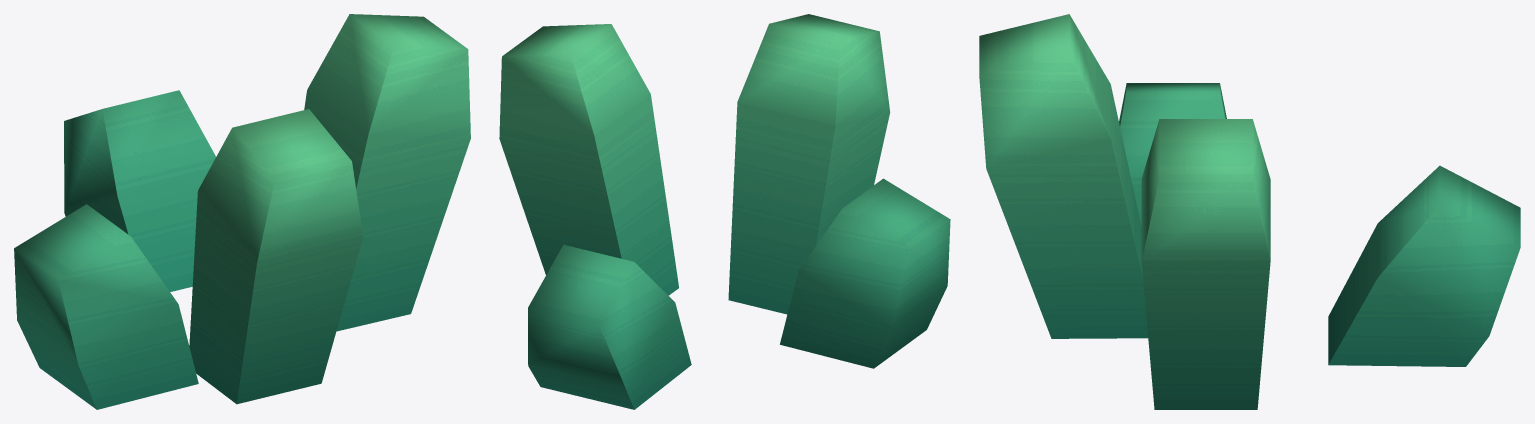
The model's file is grass.glb.
3 renders of one model, left to right at view 1: azimuth 30°, elevation 25°; view 2: azimuth 150°, elevation 25°; view 3: azimuth 270°, elevation 25°, orthographic. The views are drawn at different scales.
Parts seen in each view (by area): view 1: grass; view 2: grass; view 3: grass.
Boxes of the visible parts, x1=… form: grass: x1=14, y1=14, x2=470, y2=409; grass: x1=499, y1=14, x2=950, y2=409; grass: x1=979, y1=14, x2=1520, y2=409.
Size of the model in its own units: 0.5187 by 0.3139 by 0.5437.
1 material, 1 textured.
